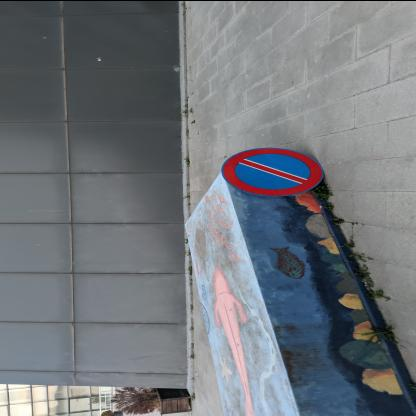No Waiting: (223, 147, 325, 197)
